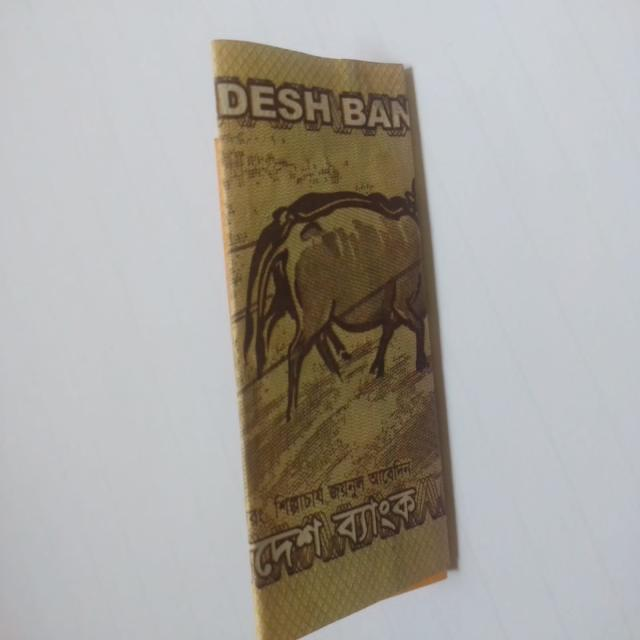Taka: (205, 22, 458, 635)
